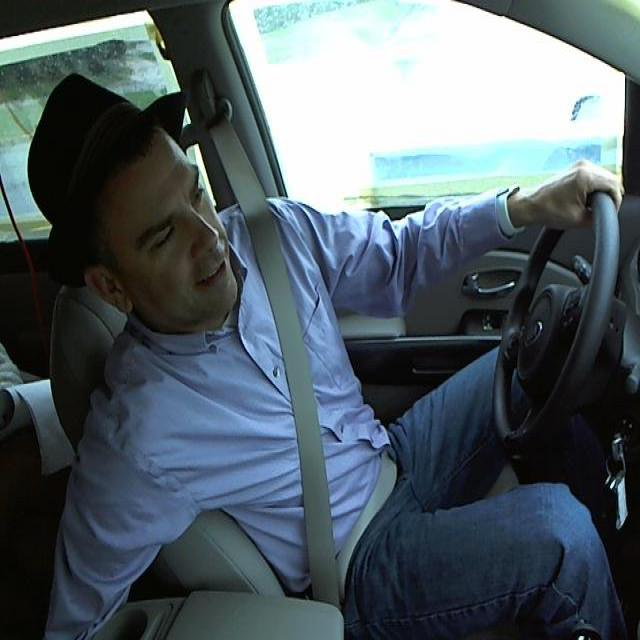seatbelt: (240, 230, 390, 566)
